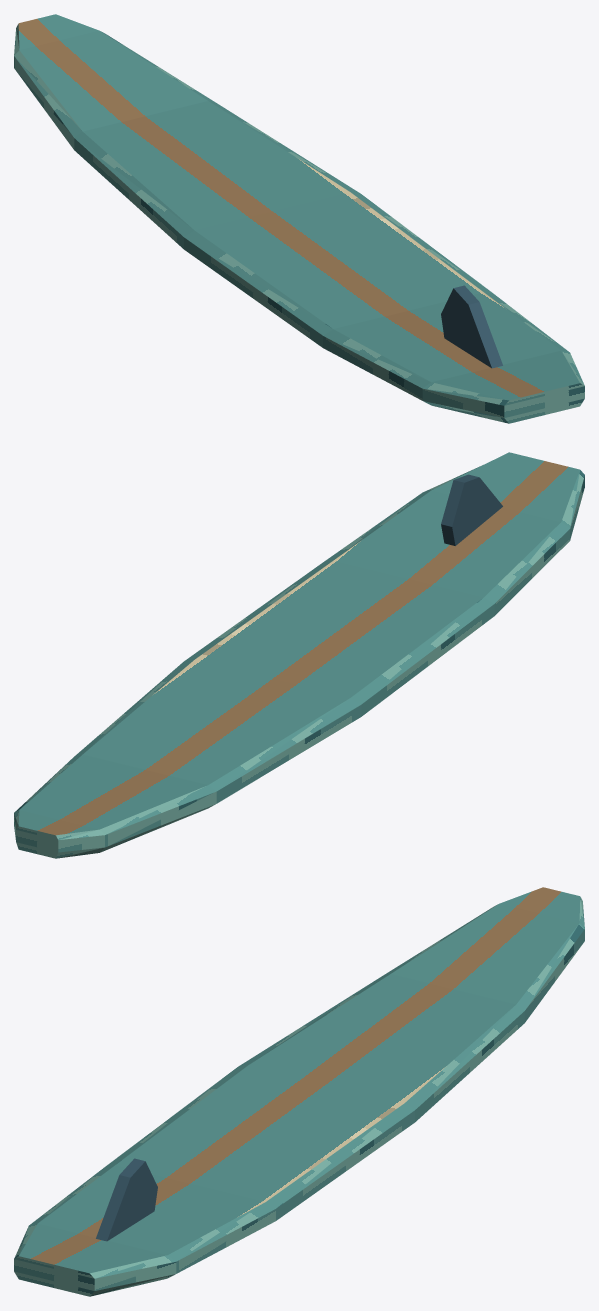
File: surf-longboard.glb
3 views of the same model, one above another, from view 1: azimuth 30°, elevation 25°; view 2: azimuth 150°, elevation 25°; view 3: azimuth 330°, elevation 25° (orthographic).
Visible parts, largest first — view 1: surf-longboard; view 2: surf-longboard; view 3: surf-longboard.
Boxes of the visible parts, x1,y1,x2,y2 form: surf-longboard: [14, 14, 584, 423]; surf-longboard: [14, 452, 584, 858]; surf-longboard: [14, 887, 584, 1296].
Size of the model in its own units: 0.572 by 0.26 by 2.83.
1 material, 1 textured.
